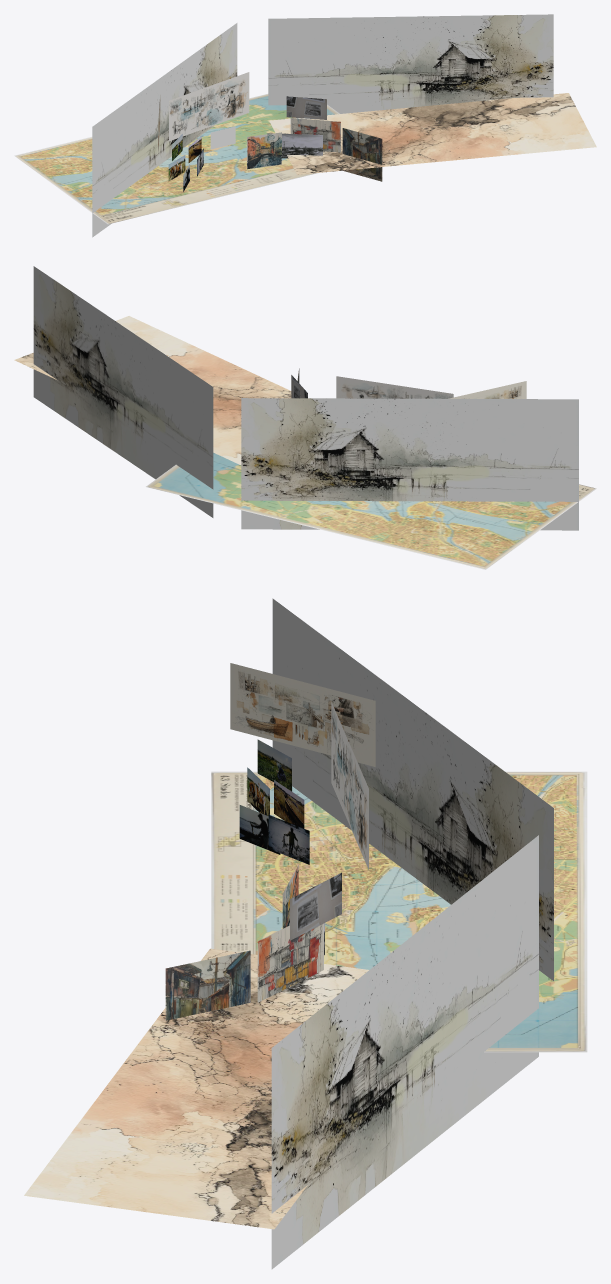
Rendered from aland_web.glb.
3 renders of one model, top to bottom at view 1: azimuth 30°, elevation 25°; view 2: azimuth 150°, elevation 25°; view 3: azimuth 270°, elevation 25°, orthographic. The views are drawn at different scales.
Parts seen in each view (by area): view 1: matsblomberg_An_old_boathouse_by_the_water_light_watercolor, matsblomberg_Ground_texture_seen_from_the_top_aerial_view_l, Stockholm, matsblomberg_Create_a_collage_for_a_wooden_boat_building_doc, matsblomberg_a_run_down_part_of_Stockholm_small_one_story_wo (×2), matsblomberg_an_abstract_water_color_rendering_of_a_run_down, Norra_Hammarbyhamnen_1949, P1000821, social_matsblomberg_httpss.mj.runjinUKrtefK0_man_rowing_ligh, 11-09-2015_4 Large; view 2: matsblomberg_An_old_boathouse_by_the_water_light_watercolor, Stockholm, matsblomberg_Ground_texture_seen_from_the_top_aerial_view_l, matsblomberg_Create_a_collage_for_a_wooden_boat_building_doc (×2); view 3: matsblomberg_An_old_boathouse_by_the_water_light_watercolor, matsblomberg_Ground_texture_seen_from_the_top_aerial_view_l, Stockholm, matsblomberg_Create_a_collage_for_a_wooden_boat_building_doc (×2), matsblomberg_a_run_down_part_of_Stockholm_small_one_story_wo (×2), P1000821, 11-10-2015_145 Large, 11-10-2015_44 Large, 11-09-2015_29 Large, 11-10-2015_33 Large.
Boxes of the visible parts, x1=… form: matsblomberg_An_old_boathouse_by_the_water_light_watercolor: x1=92, y1=14, x2=553, y2=237; matsblomberg_Ground_texture_seen_from_the_top_aerial_view_l: x1=269, y1=93, x2=596, y2=174; Stockholm: x1=14, y1=94, x2=339, y2=224; matsblomberg_Create_a_collage_for_a_wooden_boat_building_doc: x1=169, y1=72, x2=249, y2=141; matsblomberg_a_run_down_part_of_Stockholm_small_one_story_wo (×2): x1=290, y1=118, x2=382, y2=181; matsblomberg_an_abstract_water_color_rendering_of_a_run_down: x1=247, y1=132, x2=281, y2=169; Norra_Hammarbyhamnen_1949: x1=267, y1=133, x2=322, y2=158; P1000821: x1=286, y1=96, x2=326, y2=119; social_matsblomberg_httpss.mj.runjinUKrtefK0_man_rowing_ligh: x1=210, y1=126, x2=235, y2=149; 11-09-2015_4 Large: x1=168, y1=155, x2=185, y2=181; matsblomberg_An_old_boathouse_by_the_water_light_watercolor: x1=33, y1=266, x2=578, y2=530; Stockholm: x1=146, y1=452, x2=596, y2=569; matsblomberg_Ground_texture_seen_from_the_top_aerial_view_l: x1=14, y1=316, x2=291, y2=465; matsblomberg_Create_a_collage_for_a_wooden_boat_building_doc (×2): x1=336, y1=376, x2=526, y2=398; matsblomberg_An_old_boathouse_by_the_water_light_watercolor: x1=271, y1=598, x2=553, y2=1269; matsblomberg_Ground_texture_seen_from_the_top_aerial_view_l: x1=24, y1=948, x2=368, y2=1229; Stockholm: x1=211, y1=771, x2=587, y2=1052; matsblomberg_Create_a_collage_for_a_wooden_boat_building_doc (×2): x1=230, y1=663, x2=375, y2=869; matsblomberg_a_run_down_part_of_Stockholm_small_one_story_wo (×2): x1=165, y1=923, x2=323, y2=1020; P1000821: x1=290, y1=872, x2=341, y2=940; 11-10-2015_145 Large: x1=268, y1=815, x2=309, y2=864; 11-10-2015_44 Large: x1=257, y1=739, x2=291, y2=791; 11-09-2015_29 Large: x1=239, y1=805, x2=280, y2=854; 11-10-2015_33 Large: x1=274, y1=780, x2=304, y2=828.
Size of the model in its own units: 29.32 by 6.51 by 15.
16 materials, 15 textured.
